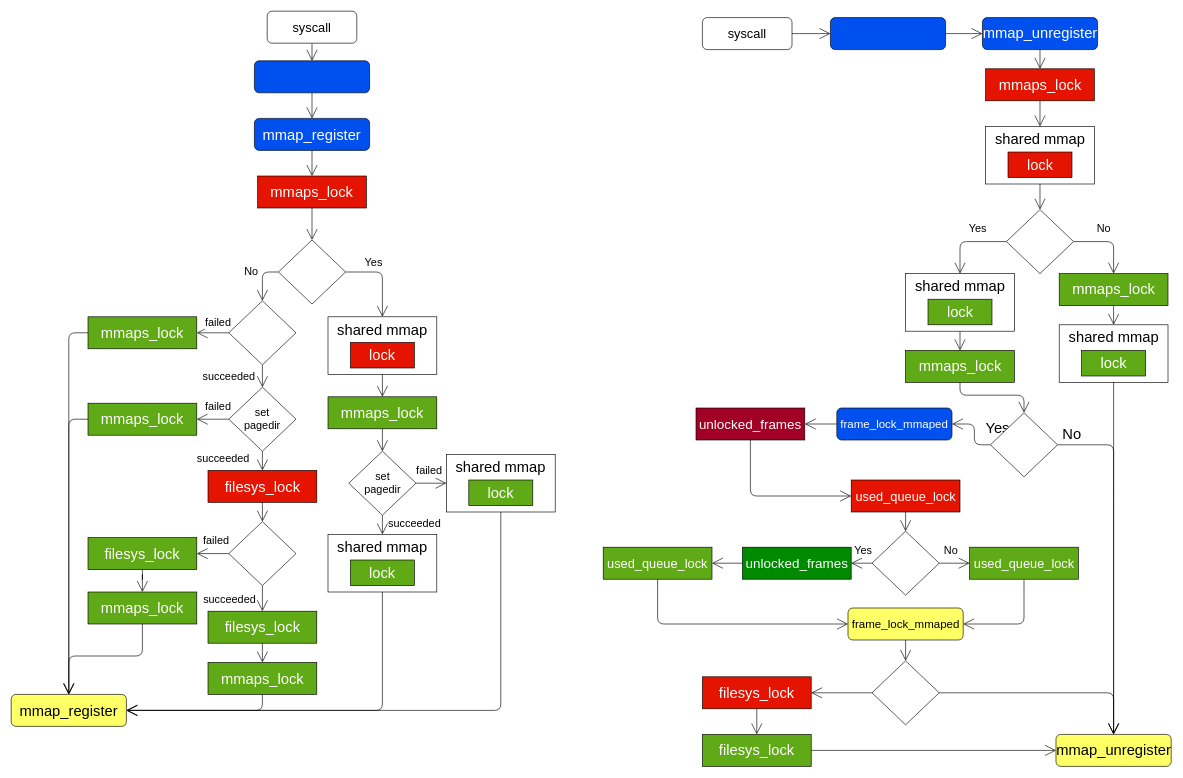
The diagram is 1183 pixels wide and 778 high, and some of its shapes have lost their labels. The shapes that lost their labels are listed below. From the top down, each one's centre as x and y in pixels, then its label:
the point at 888,33: munmap
the point at 312,76: mmap
the point at 1040,241: last user mmap
the point at 312,271: found in mmaps?
the point at 262,332: user_ mmap malloc
the point at 1024,444: paged in
the point at 262,553: reopen file
the point at 905,563: frame is locked
the point at 905,692: frame lock success
